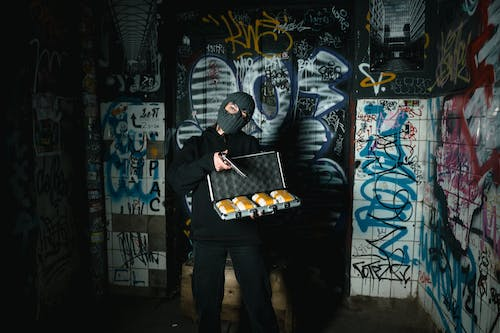gun: (217, 151, 249, 180)
